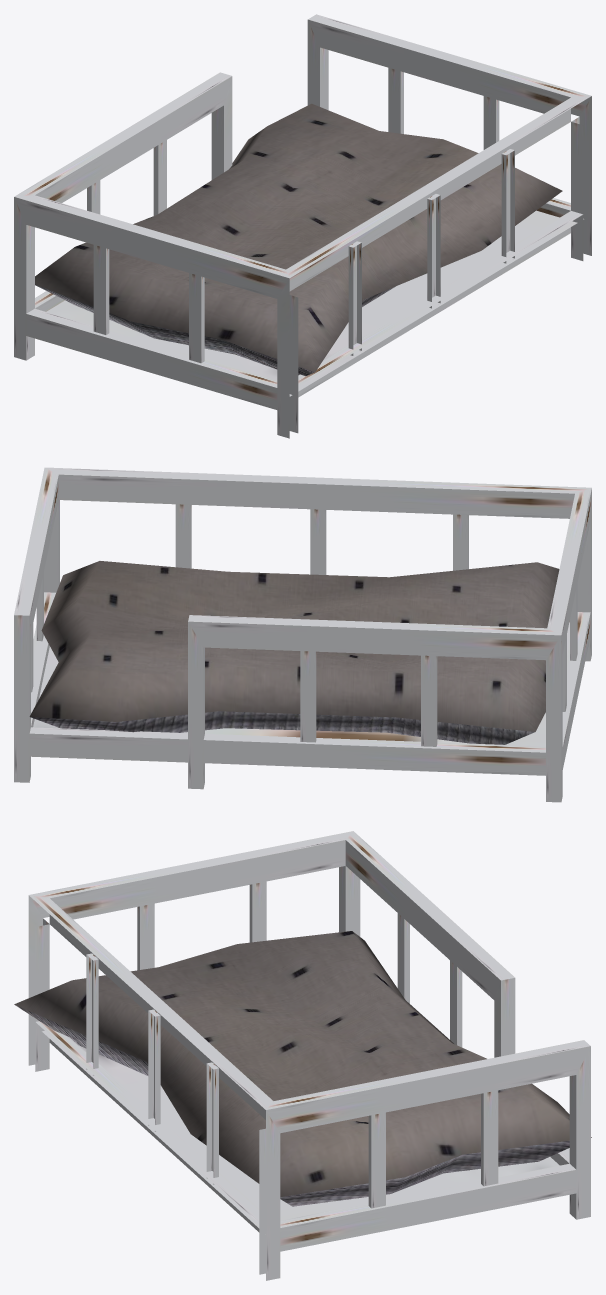
File: M_Doggouchuang01.FBX
The picture shows the model from 3 angles, top to bottom: view 1: azimuth 30°, elevation 25°; view 2: azimuth 150°, elevation 25°; view 3: azimuth 270°, elevation 25°; orthographic projection. The views are drawn at different scales.
Visible parts, largest first — view 1: M_Doggouchuang01_01, M_Doggouchuang01_02; view 2: M_Doggouchuang01_01, M_Doggouchuang01_02; view 3: M_Doggouchuang01_01, M_Doggouchuang01_02.
Boxes of the visible parts, <box> form: M_Doggouchuang01_01: <box>14,14,591,438</box>; M_Doggouchuang01_02: <box>35,103,562,376</box>; M_Doggouchuang01_01: <box>14,467,591,802</box>; M_Doggouchuang01_02: <box>29,561,559,744</box>; M_Doggouchuang01_01: <box>28,831,590,1280</box>; M_Doggouchuang01_02: <box>14,931,591,1206</box>.
Size of the model in its own units: 2.31 by 0.6599 by 2.02.
